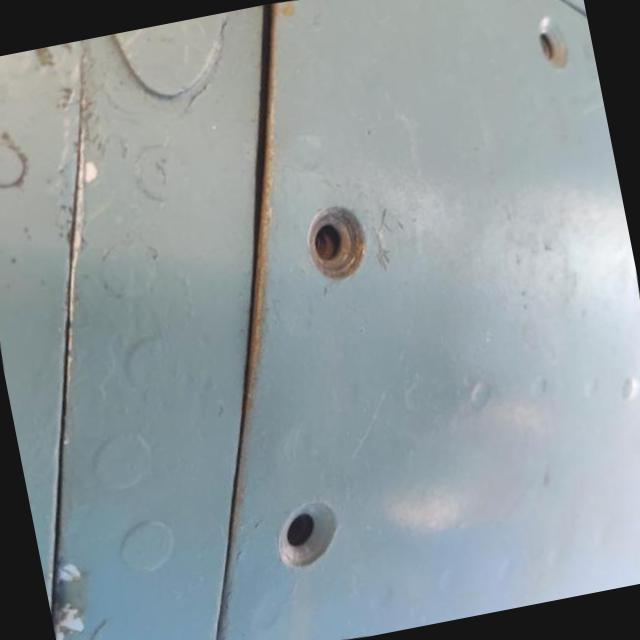Missing Fastener: (298, 198, 380, 294), (272, 493, 352, 576), (532, 11, 577, 75)
